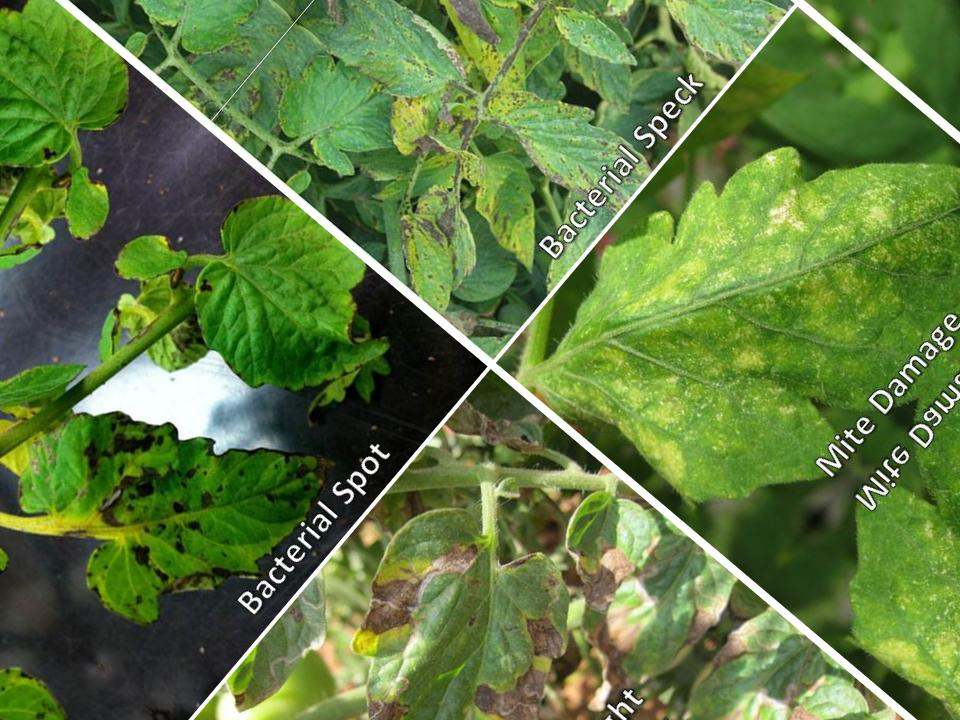Tomato Early blight leaf: (241, 456, 666, 720)
Tomato leaf bacterial spot: (0, 304, 364, 698), (136, 167, 453, 474), (240, 14, 434, 210), (459, 51, 651, 232), (295, 0, 495, 157), (415, 116, 596, 287), (579, 0, 790, 104), (375, 173, 523, 318), (437, 0, 553, 40)
